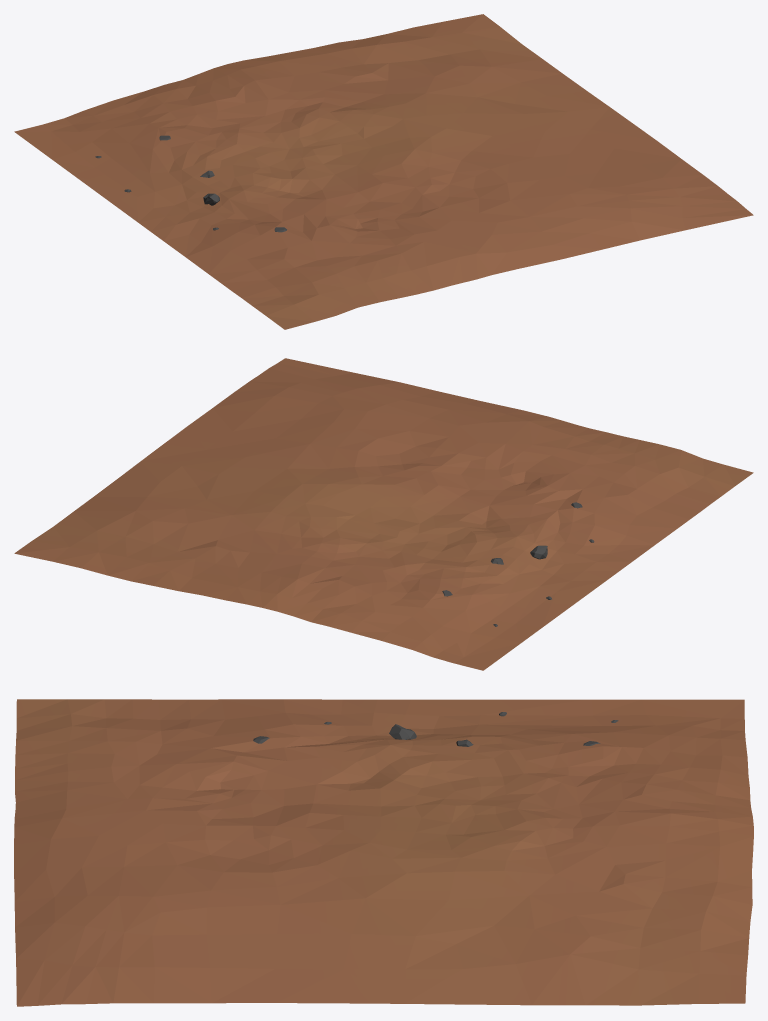
File: Ground_Straight_Type_03.fbx
3 views of the same model, one above another, from view 1: azimuth 30°, elevation 25°; view 2: azimuth 150°, elevation 25°; view 3: azimuth 270°, elevation 25° (orthographic). The views are drawn at different scales.
Parts seen in each view (by area): view 1: Ground_Straight_Type_03; view 2: Ground_Straight_Type_03; view 3: Ground_Straight_Type_03, Ground_Straight_Type_03_Rocks.
Part boxes in pixels (x1,y1,x2,y2): Ground_Straight_Type_03: [14, 14, 753, 329]; Ground_Straight_Type_03: [14, 358, 753, 670]; Ground_Straight_Type_03: [14, 699, 753, 1006]; Ground_Straight_Type_03_Rocks: [253, 712, 618, 746].
Bounding box in the file's own units: 4.39 × 0.2049 × 4.45.
1 material, 1 textured.
